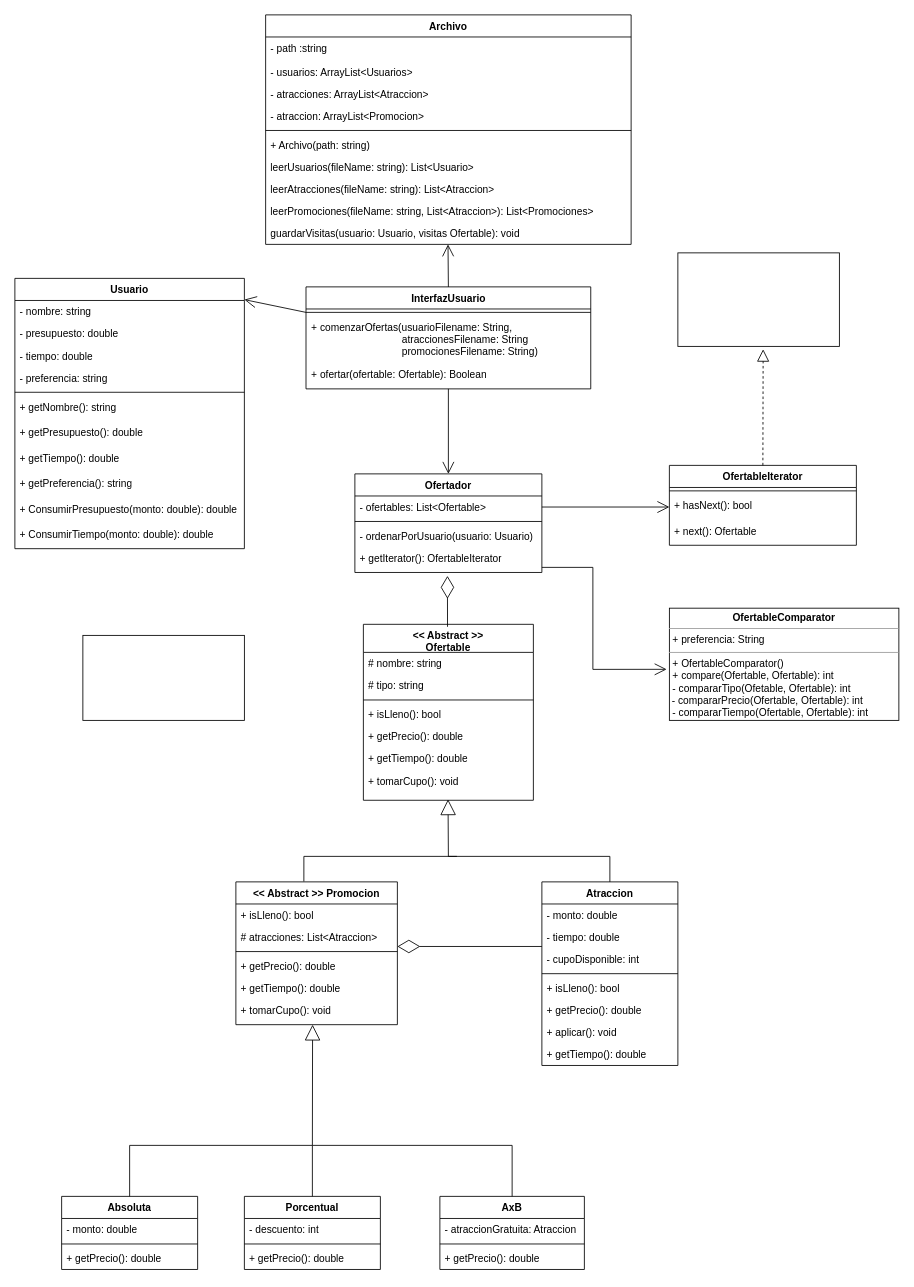
The diagram is 914 pixels wide and 1287 high, and some of its shapes have lost their labels. The shapes that lost their labels are listed below. From the top down, each one's centre as x and y in pixels, then its label:
At pixel 758 299: "<<Interface>> Iterator + hasNext(): Boolean + next(): ofertable".
At pixel 163 677: "<<Enum>> TipoOfertable PROMOCION ATRACCION".
